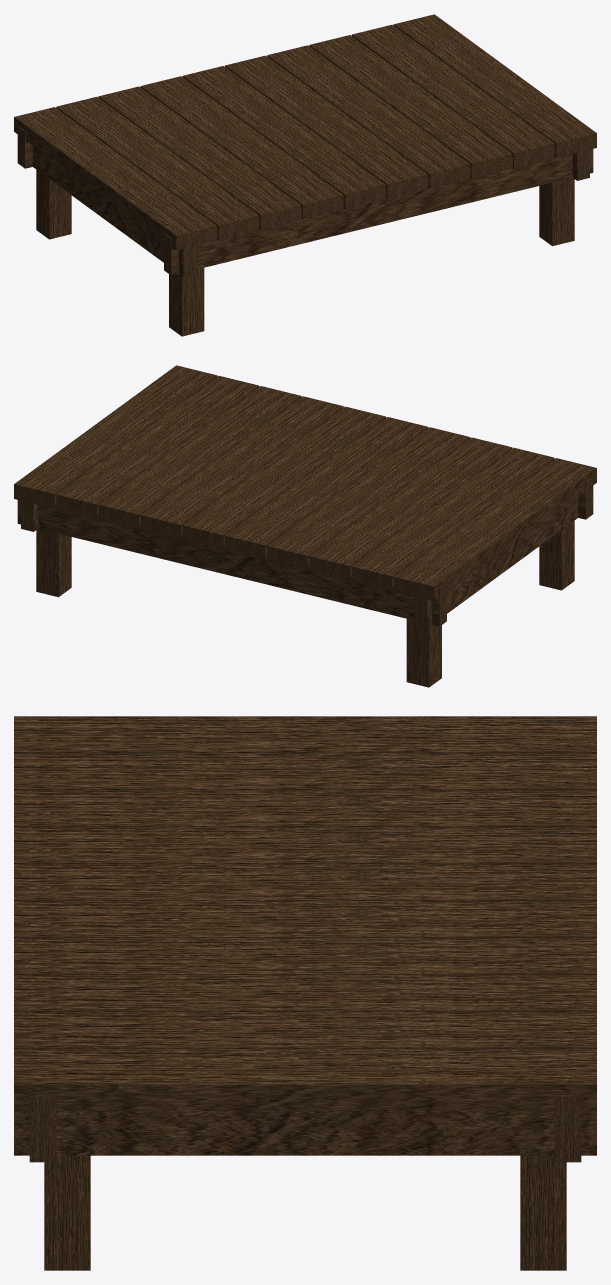
Rendered from prop_chouki.glb.
3 views of the same model, one above another, from view 1: azimuth 30°, elevation 25°; view 2: azimuth 150°, elevation 25°; view 3: azimuth 270°, elevation 25° (orthographic). The views are drawn at different scales.
Visible parts, largest first — view 1: prop_chouki; view 2: prop_chouki; view 3: prop_chouki.
Boxes of the visible parts, <box> form: prop_chouki: <box>14,14,596,336</box>; prop_chouki: <box>14,365,596,687</box>; prop_chouki: <box>14,716,596,1270</box>.
Bounding box in the file's own units: 1.8 × 0.45 × 1.2.
1 material, 1 textured.
